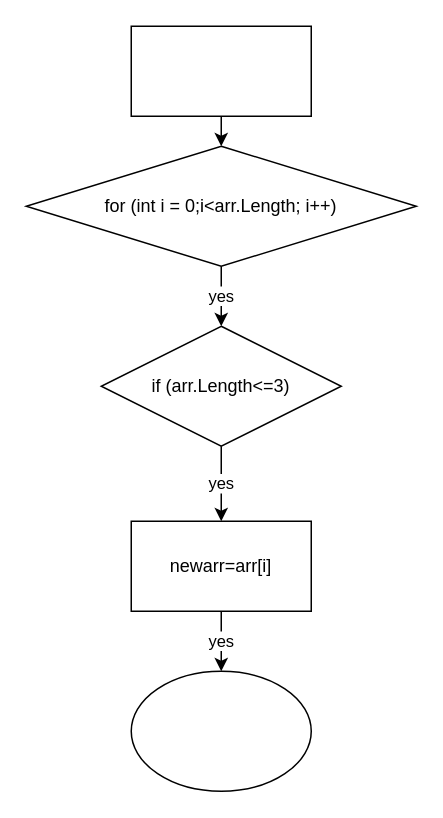
Image size: 443x818. Some labels were removed from this diagram. Here are the shapes that lost their labels. From the top down, the centre of each, then its label:
the point at 220,70: arr1.arr2,arr3 newarr
the point at 220,730: newarr
